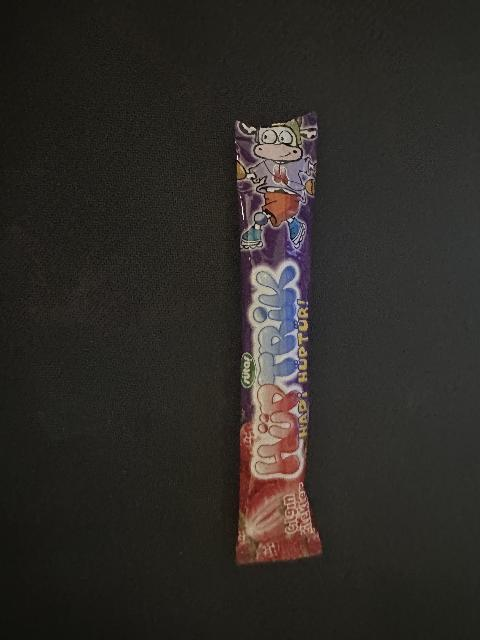Plastik: (229, 119, 322, 549)
